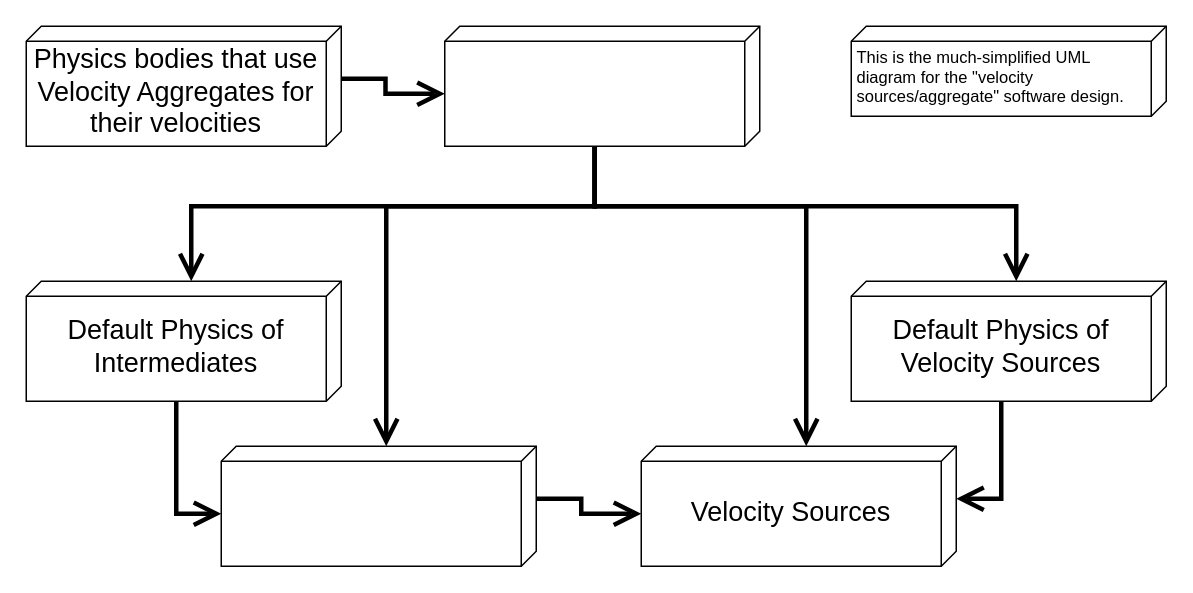
Image size: 1193x593. Some labels were removed from this diagram. The shapes that lost their labels are listed below. From the top down, each one's centre as x and y in pixels, then its label:
At point (601, 85): "Velocity Aggregates".
At point (378, 505): "Intermediates".
